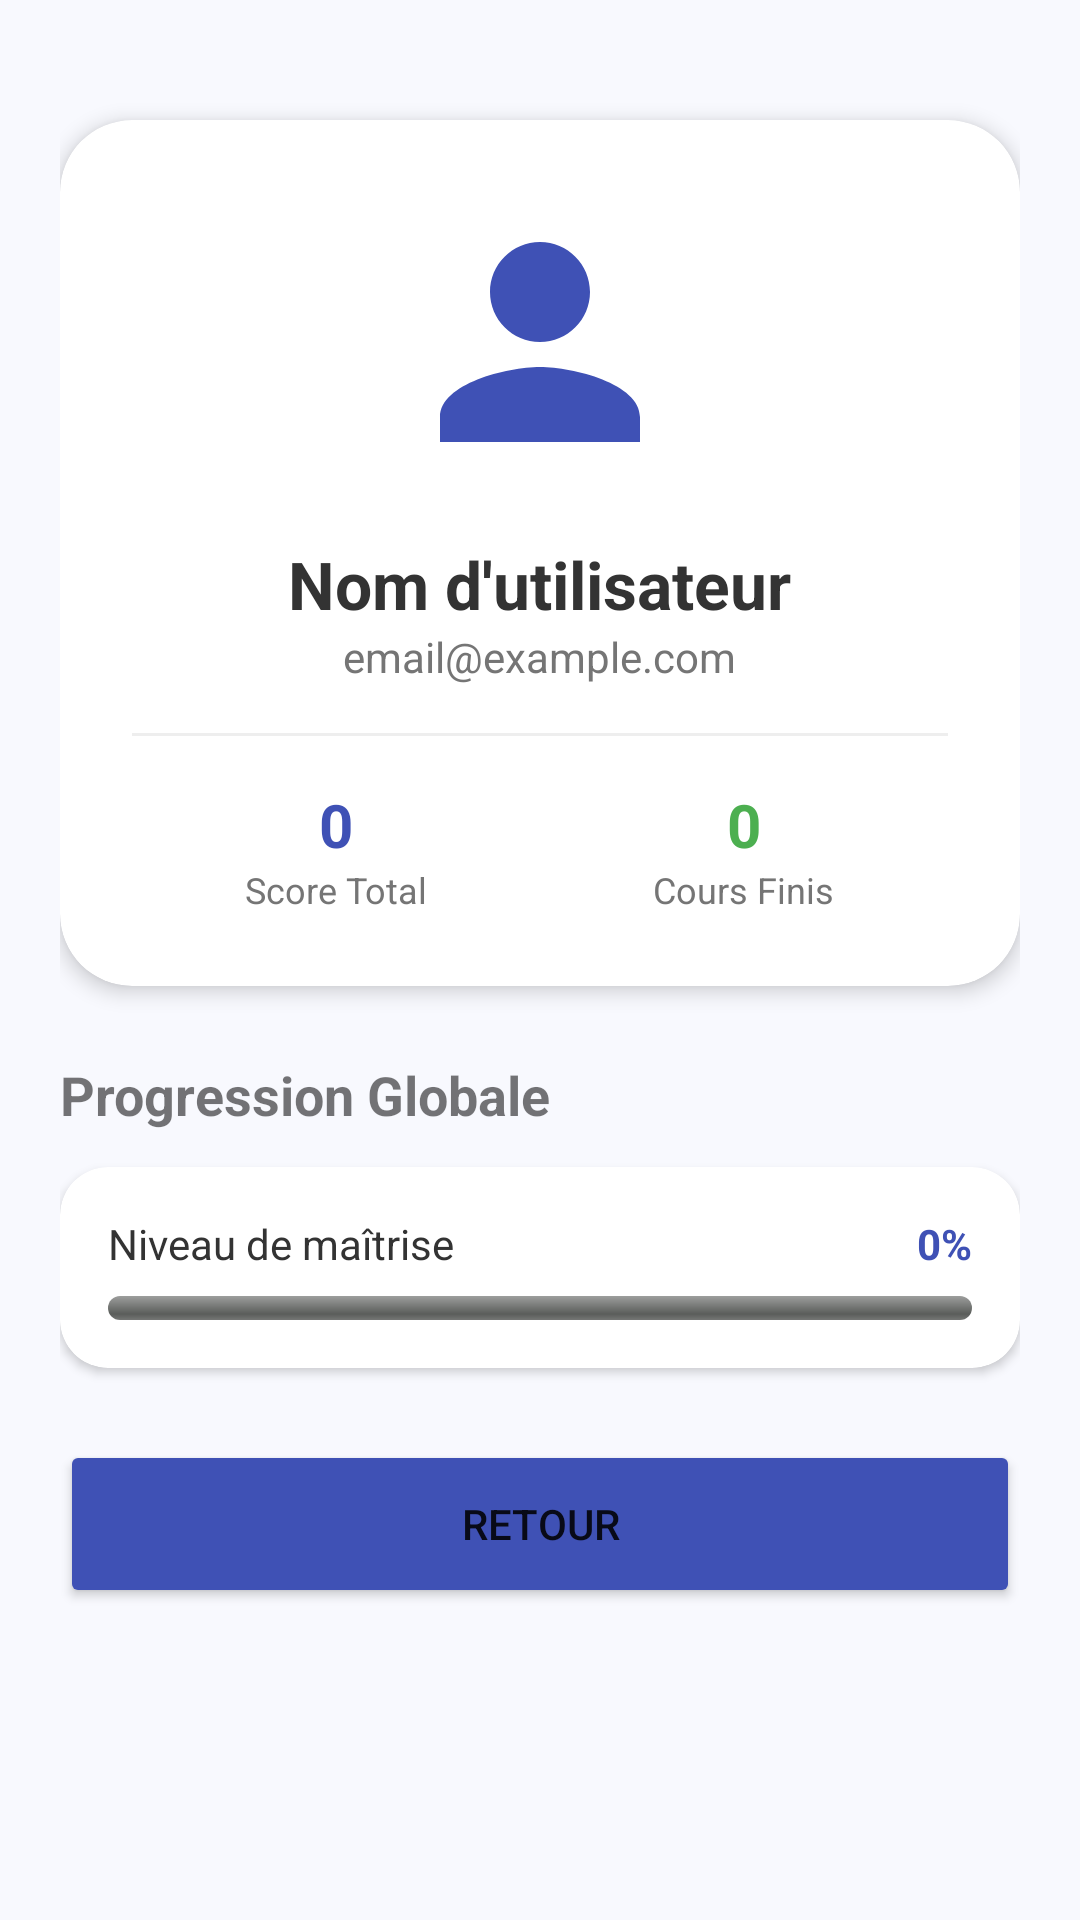

Named icons in this screenshot (1080w x 1920h) and their centers, [x,y]:
person: [540,342]
